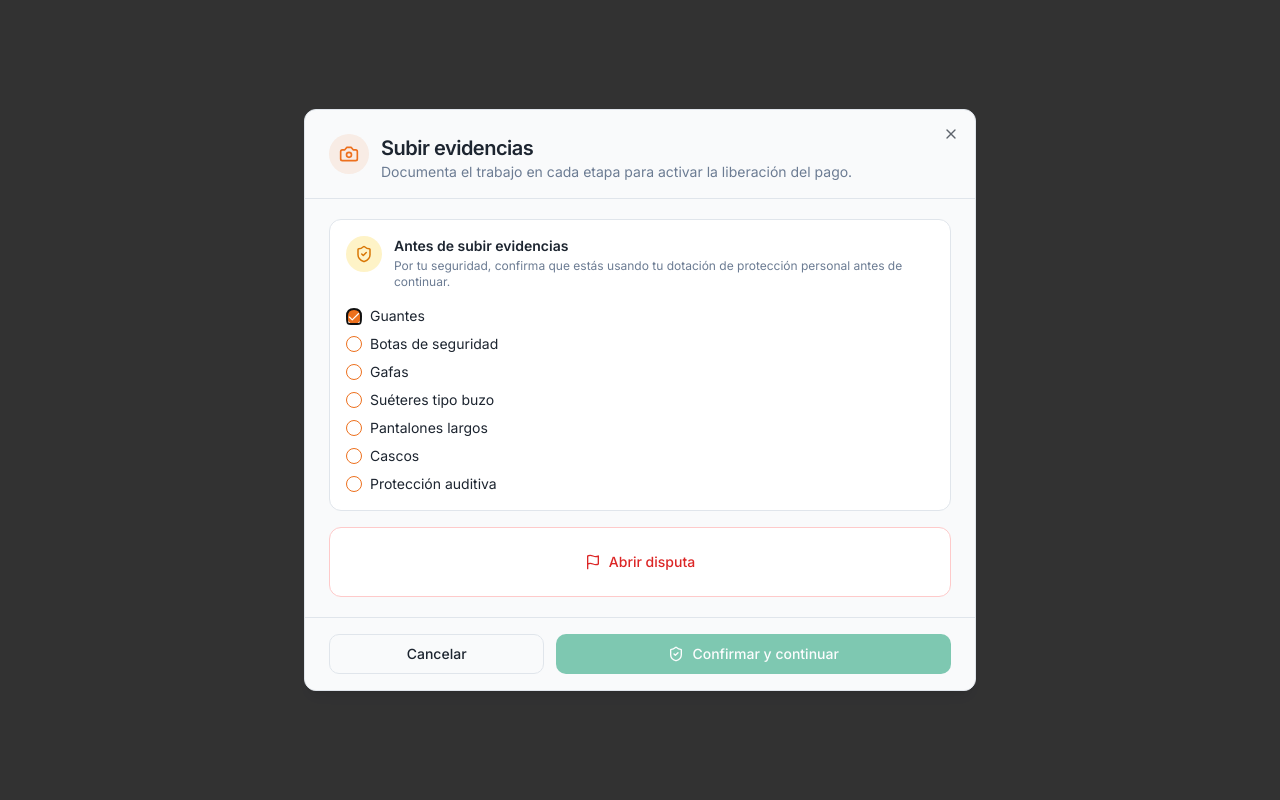
Test: EvidenciasUploadDialog - checklist de EPP › con un tipo de alto riesgo (albañilería), marcar solo los básicos no alcanza para habilitar el botón
Earlier steps of the test are not shown.
Click the checkbox next to "Botas de seguridad".
click(354, 344)  # box [346,336,362,352]
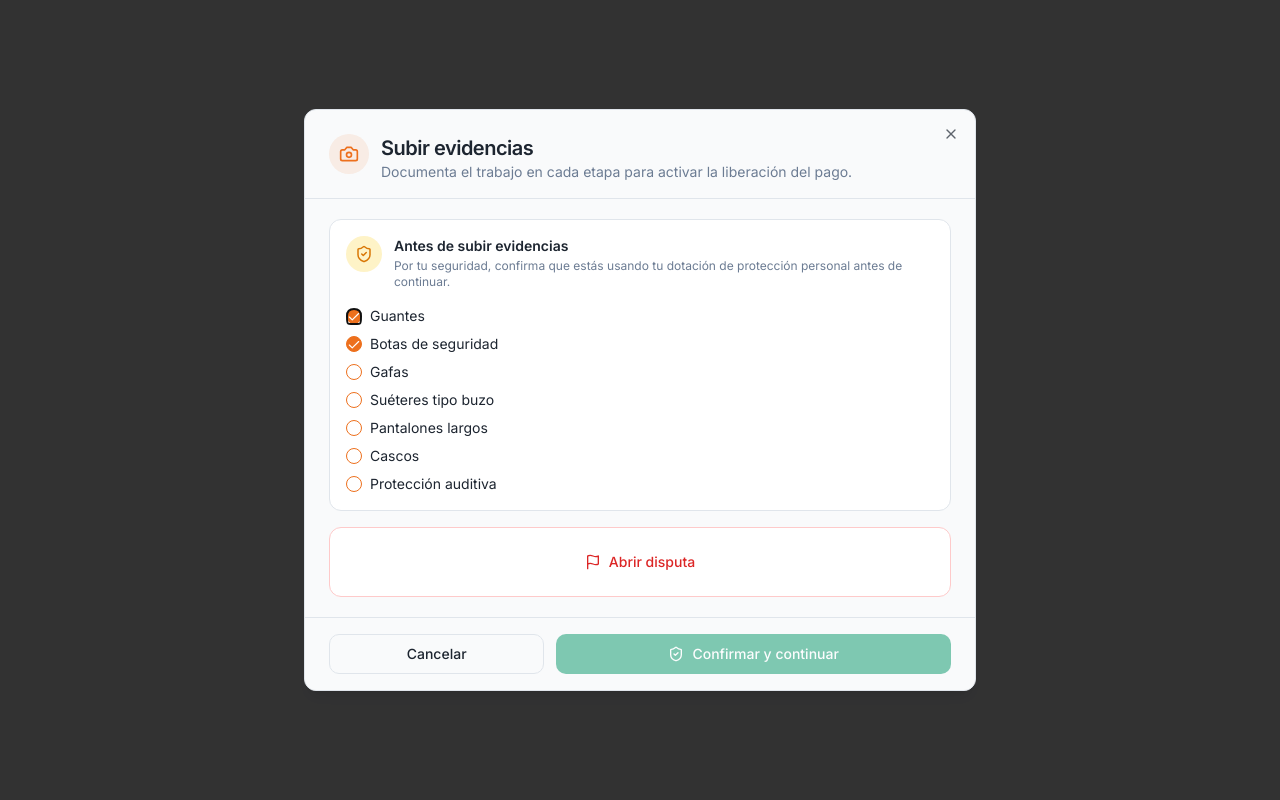
Click the checkbox next to "Gafas".
click(354, 372)  # box [346,364,362,380]
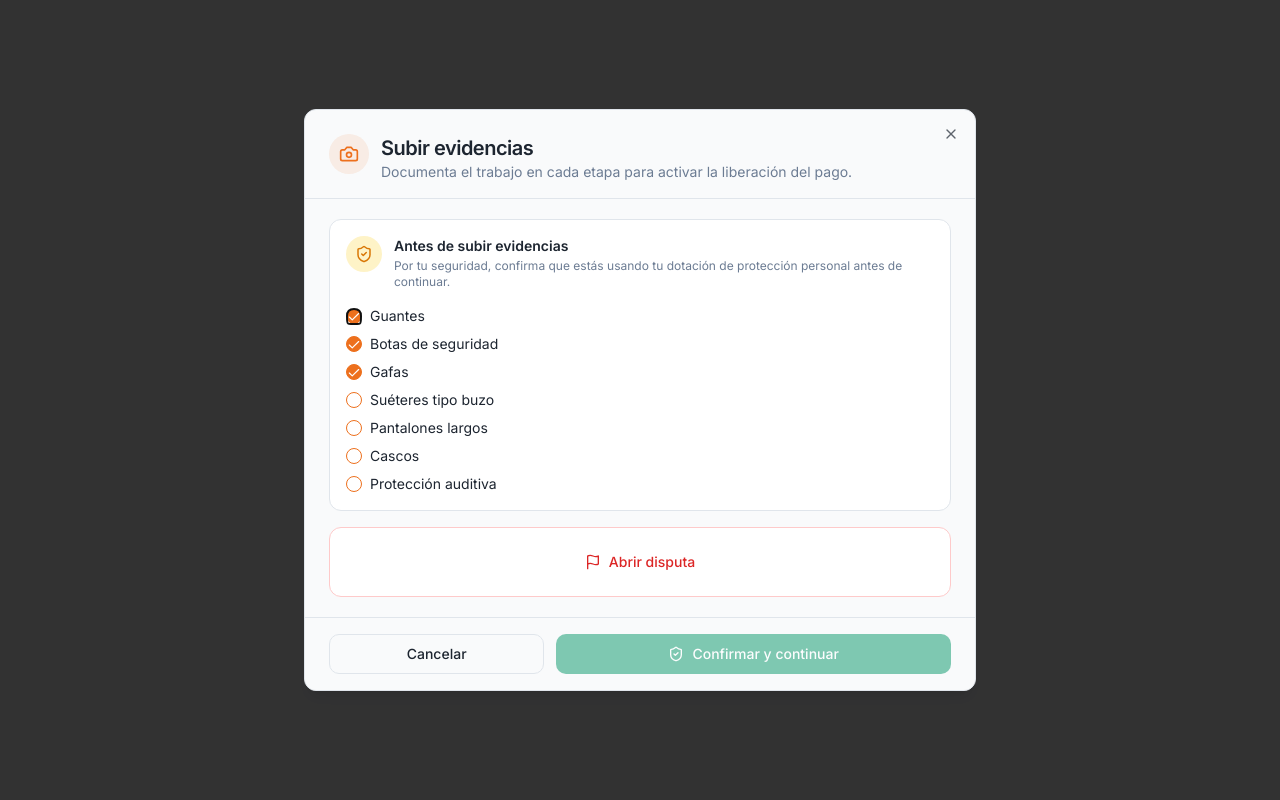
Click the checkbox next to "Suéteres tipo buzo".
click(354, 400)  # box [346,392,362,408]
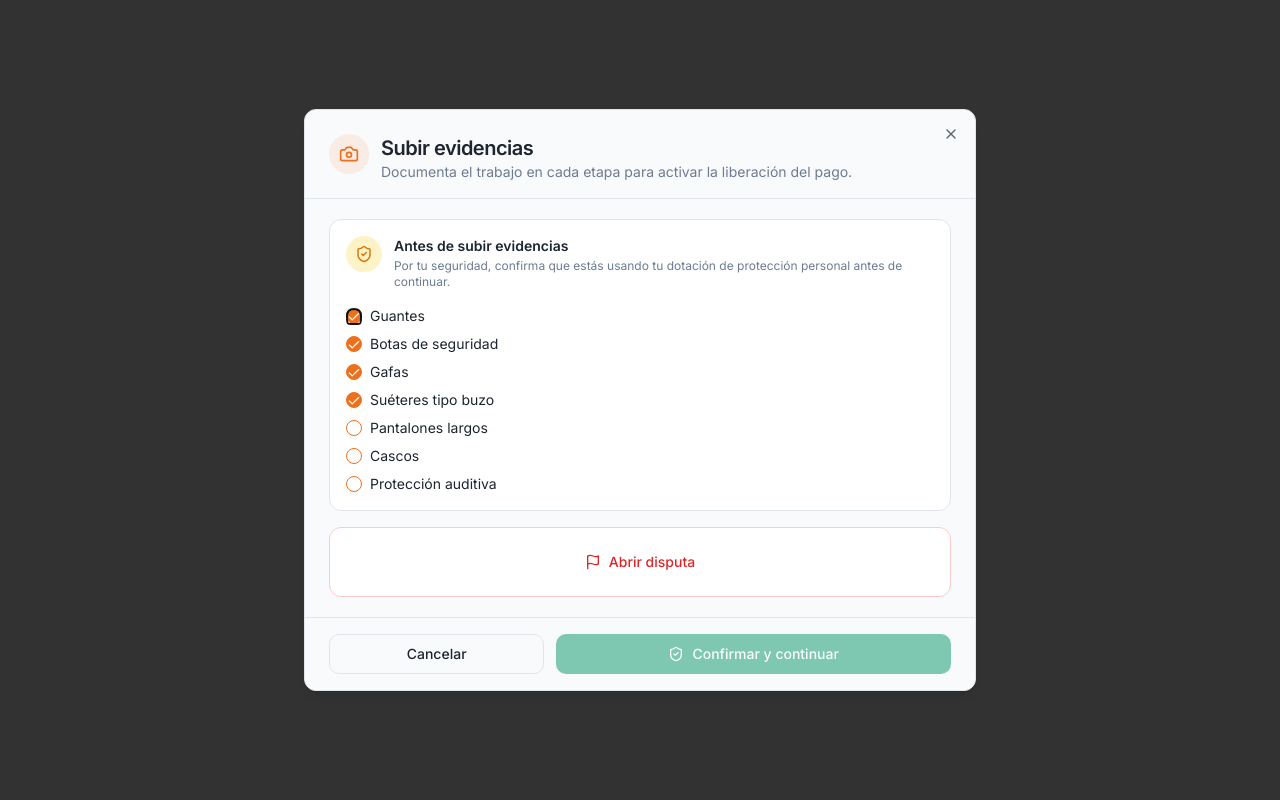
Click the checkbox next to "Pantalones largos".
click(354, 428)  # box [346,420,362,436]
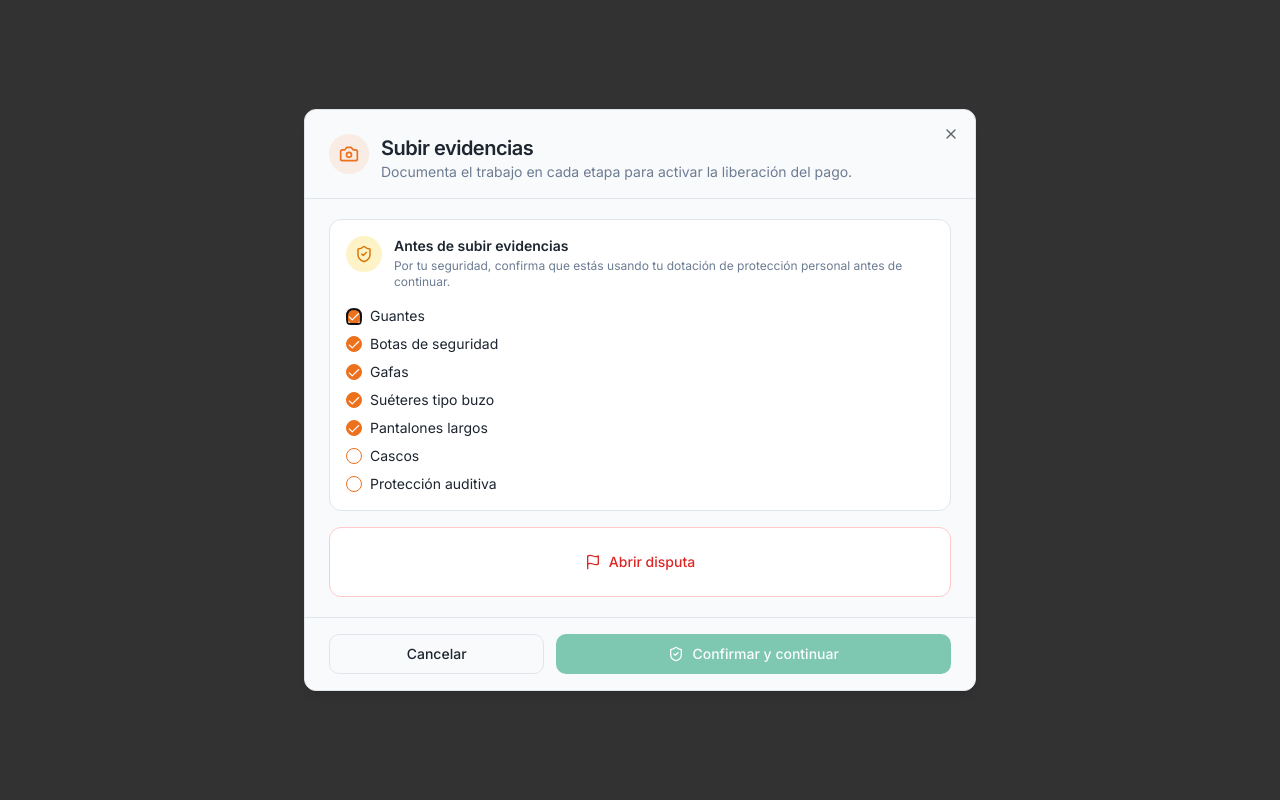
Expected: the button "Confirmar y continuar" is disabled, [556,634,951,674]
Click the checkbox next to "Cascos".
click(354, 456)  # box [346,448,362,464]
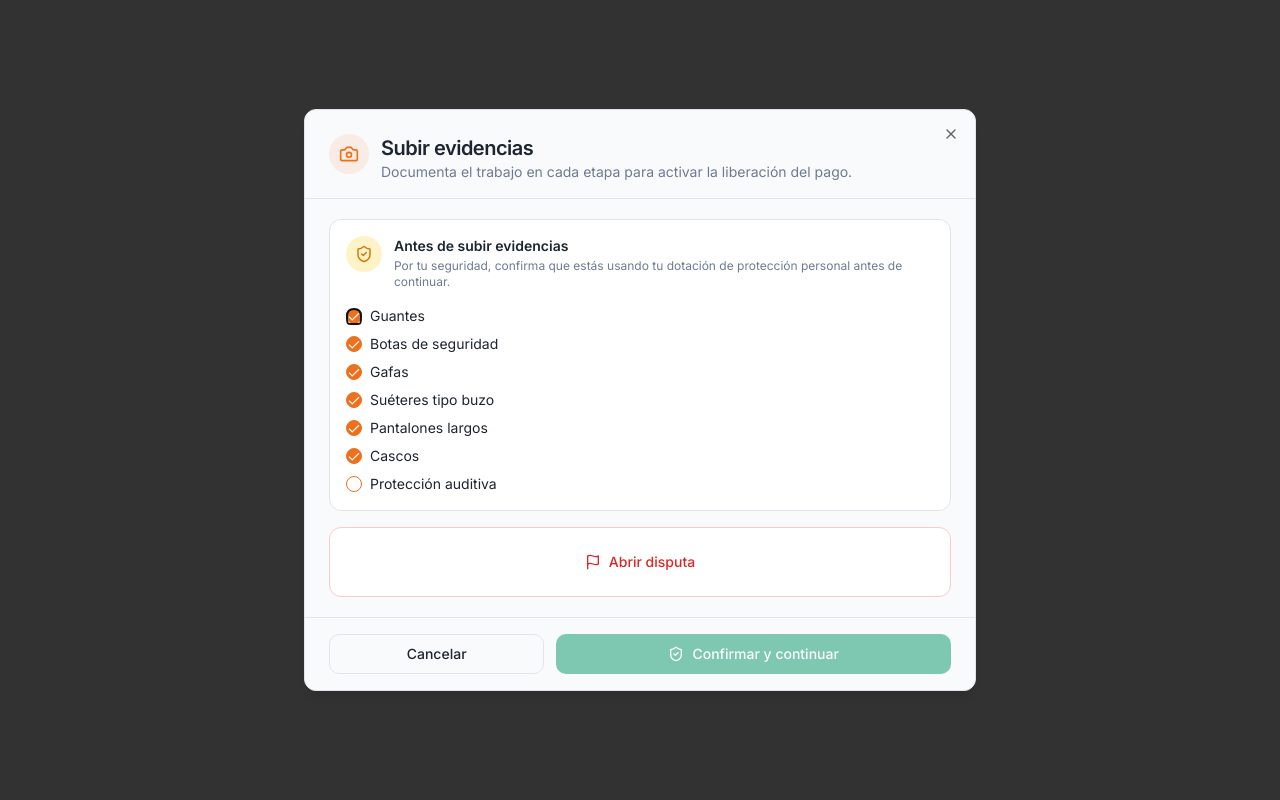
Expected: the button "Confirmar y continuar" is disabled, [556,634,951,674]
Click the checkbox next to "Protección auditiva".
click(354, 484)  # box [346,476,362,492]
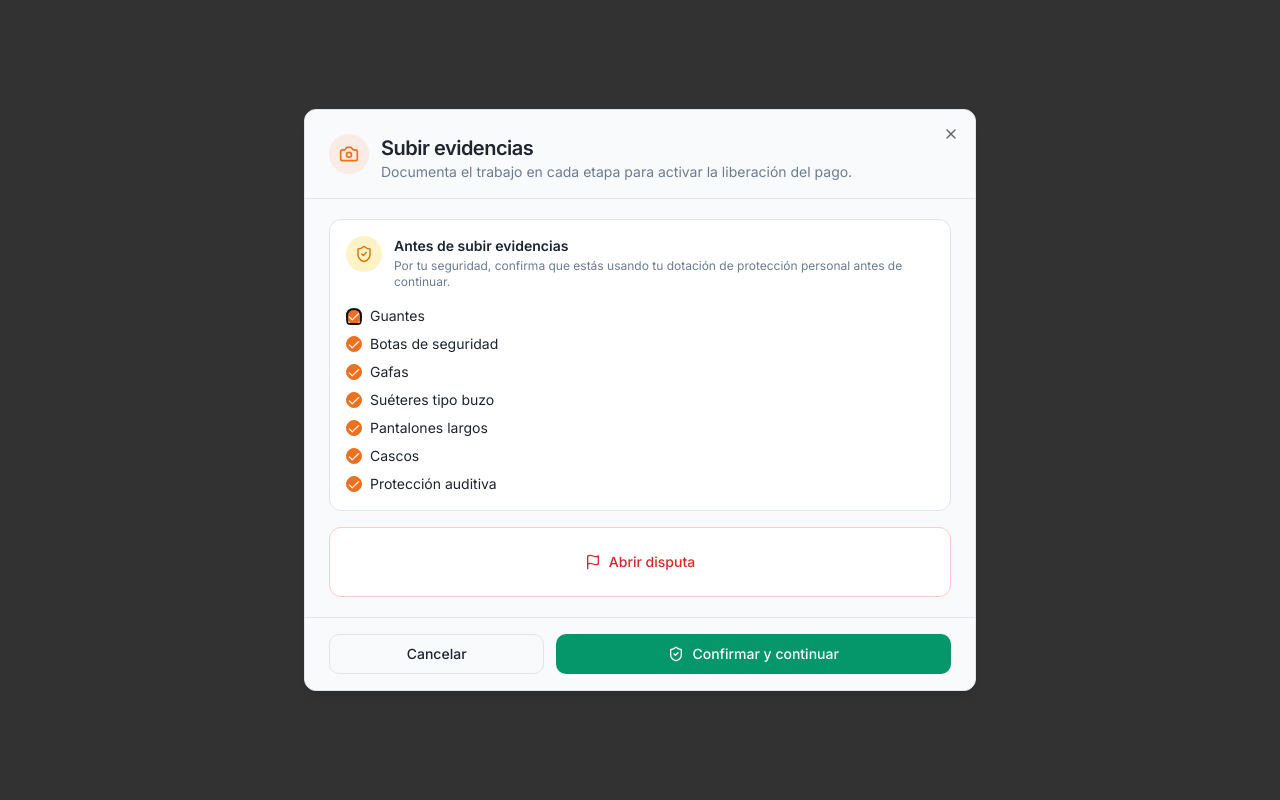
Now the button "Confirmar y continuar" is enabled, box [556,634,951,674]
